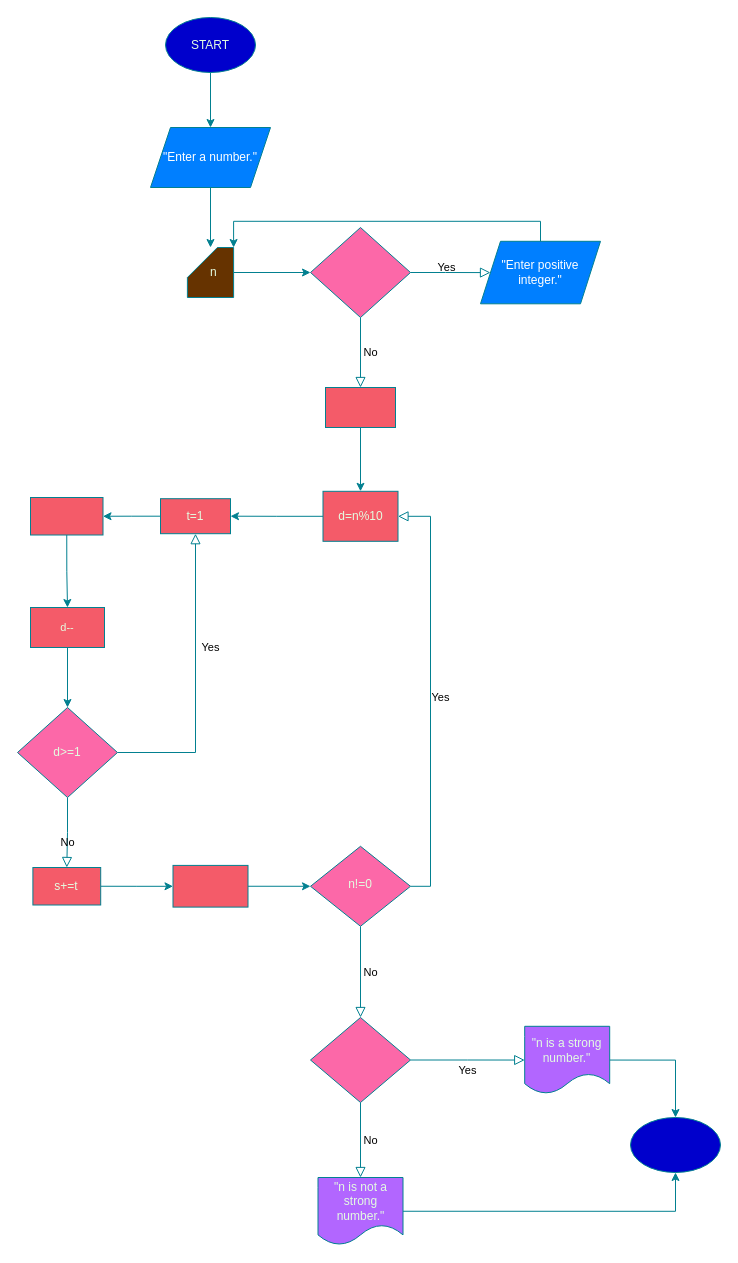
Image size: 738x1263. Some labels were removed from this diagram. Each missing label, with the centre of its shape:
END: the point at 675,1144
f=n s=0: the point at 360,407
n<=0: the point at 360,272
n=n/10: the point at 210,885
s==f: the point at 360,1059
t*=d: the point at 66,515
